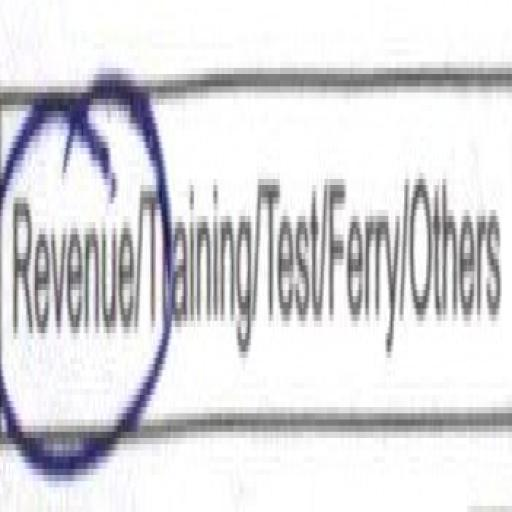check: (0, 74, 134, 512)
